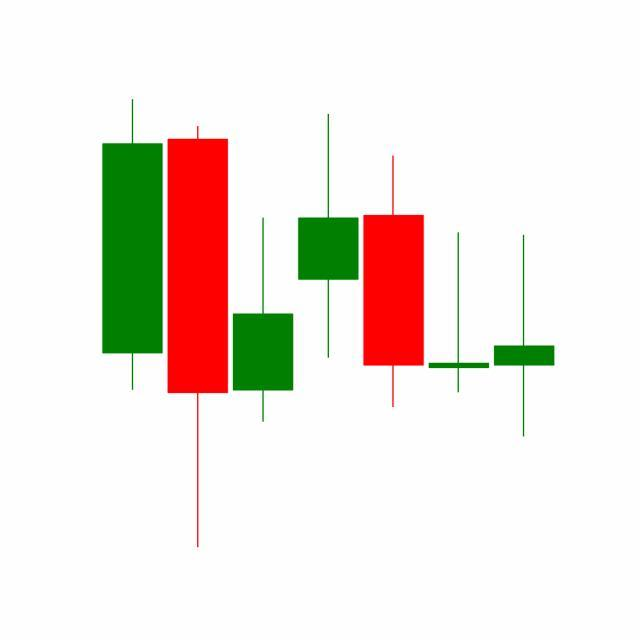Hikkake Pattern: (229, 111, 555, 441)
